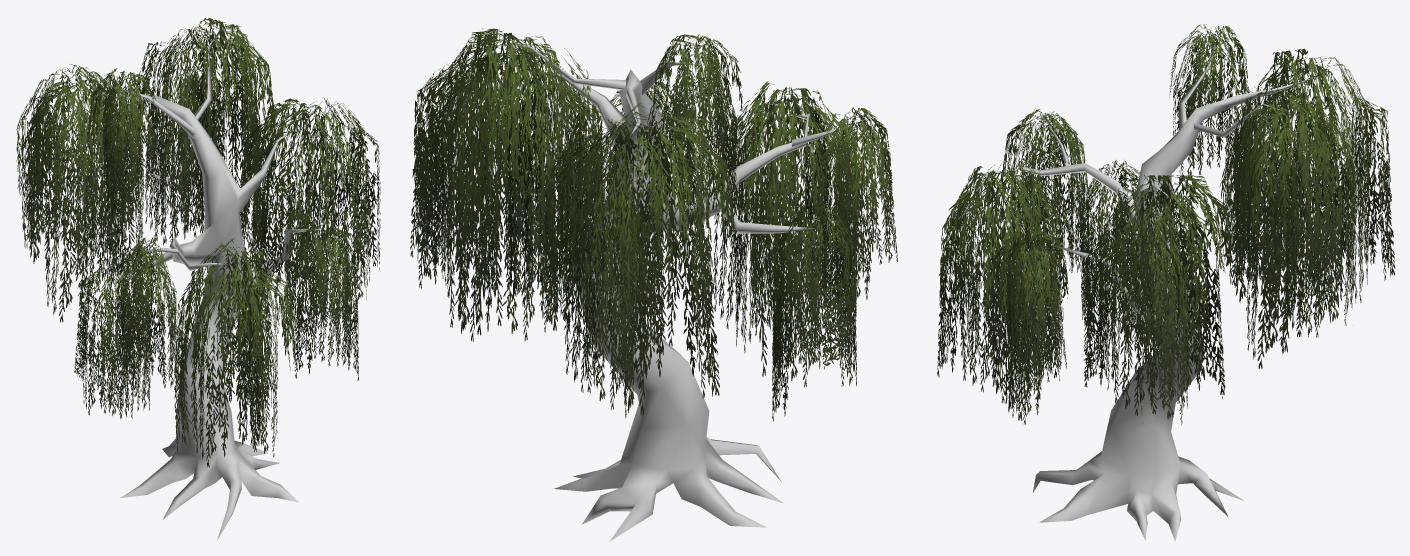
The model's file is TY_liushu_02.FBX.
3 renders of one model, left to right at view 1: azimuth 30°, elevation 25°; view 2: azimuth 150°, elevation 25°; view 3: azimuth 270°, elevation 25°, orthographic. The views are drawn at different scales.
Visible parts, largest first — view 1: TY_liushu_02; view 2: TY_liushu_02; view 3: TY_liushu_02.
Boxes of the visible parts, left/top/right/bottom form: TY_liushu_02: left=16, top=18, right=380, bottom=540; TY_liushu_02: left=410, top=28, right=897, bottom=541; TY_liushu_02: left=937, top=24, right=1395, bottom=541.
Size of the model in its own units: 917 by 1124 by 1031.
